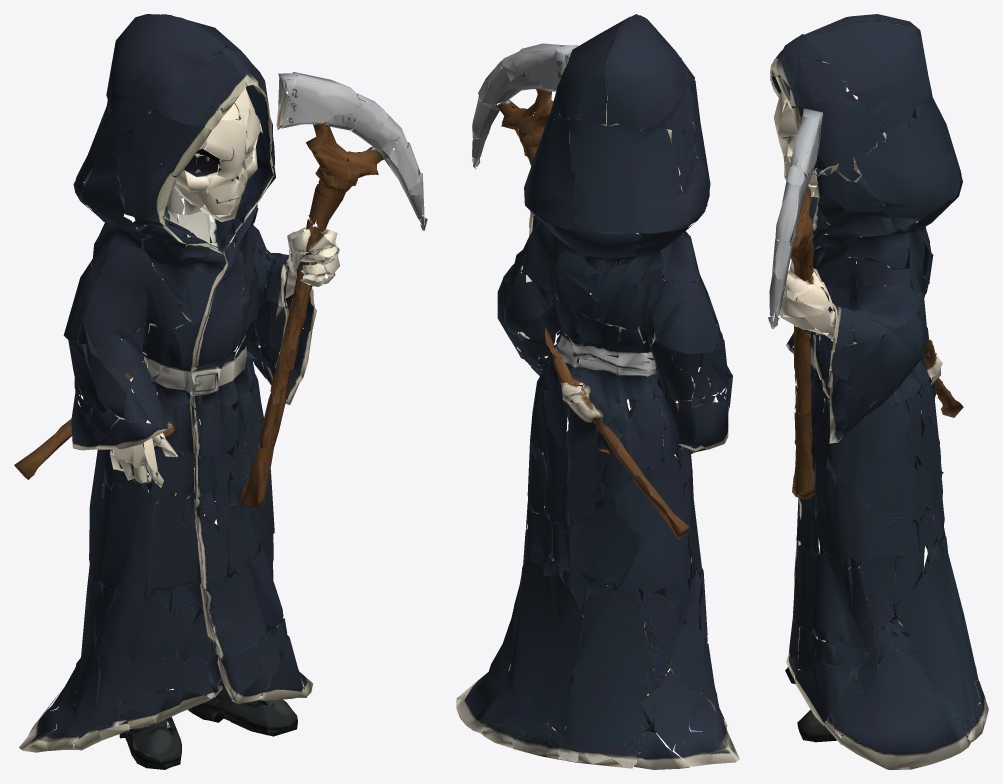
File: reaper.glb
3 renders of one model, left to right at view 1: azimuth 30°, elevation 25°; view 2: azimuth 150°, elevation 25°; view 3: azimuth 270°, elevation 25°, orthographic. The views are drawn at different scales.
Parts seen in each view (by area): view 1: reaper; view 2: reaper; view 3: reaper.
Part boxes in pixels (x1,y1,x2,y2): reaper: [14, 14, 427, 769]; reaper: [456, 14, 739, 769]; reaper: [768, 14, 988, 769].
Size of the model in its own units: 1.34 by 2.7 by 0.7868.
1 material, 1 textured.
